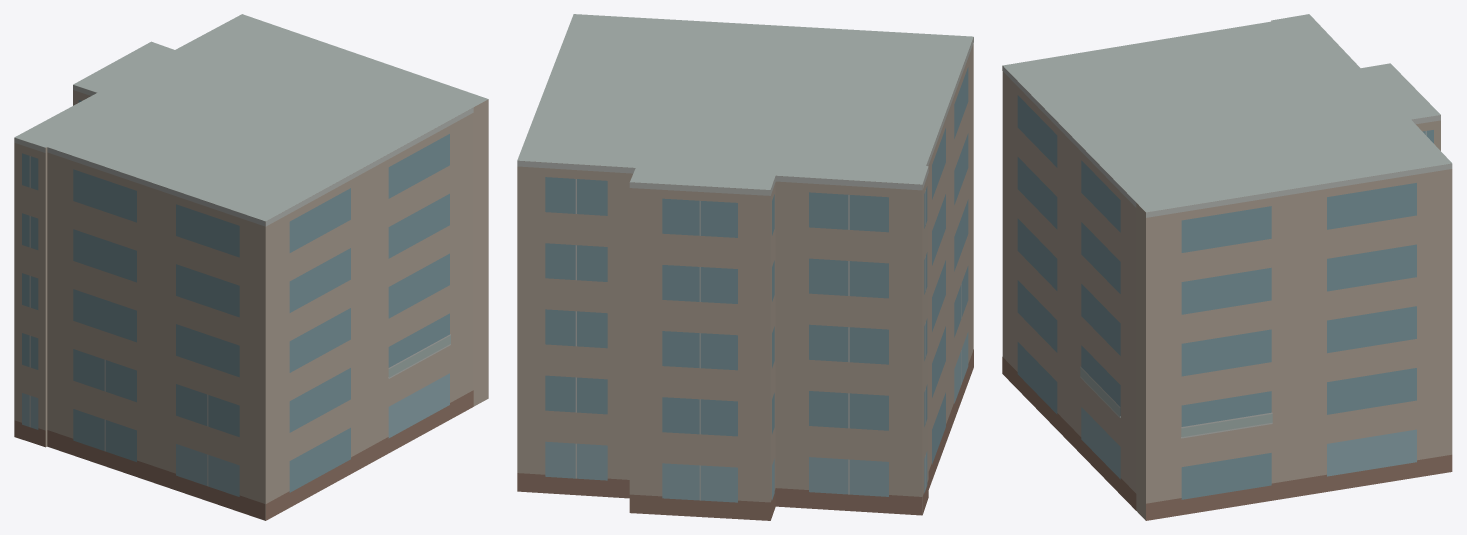
File: survey-upis-32980393.glb
3 renders of one model, left to right at view 1: azimuth 30°, elevation 25°; view 2: azimuth 150°, elevation 25°; view 3: azimuth 270°, elevation 25°, orthographic. The views are drawn at different scales.
Parts seen in each view (by area): view 1: survey-upis-32980393.tmp; view 2: survey-upis-32980393.tmp; view 3: survey-upis-32980393.tmp.
Part boxes in pixels (x1,y1,x2,y2): survey-upis-32980393.tmp: (14, 14, 488, 520); survey-upis-32980393.tmp: (517, 14, 973, 520); survey-upis-32980393.tmp: (1002, 14, 1452, 520).
Size of the model in its own units: 19.13 by 13.85 by 18.32.
